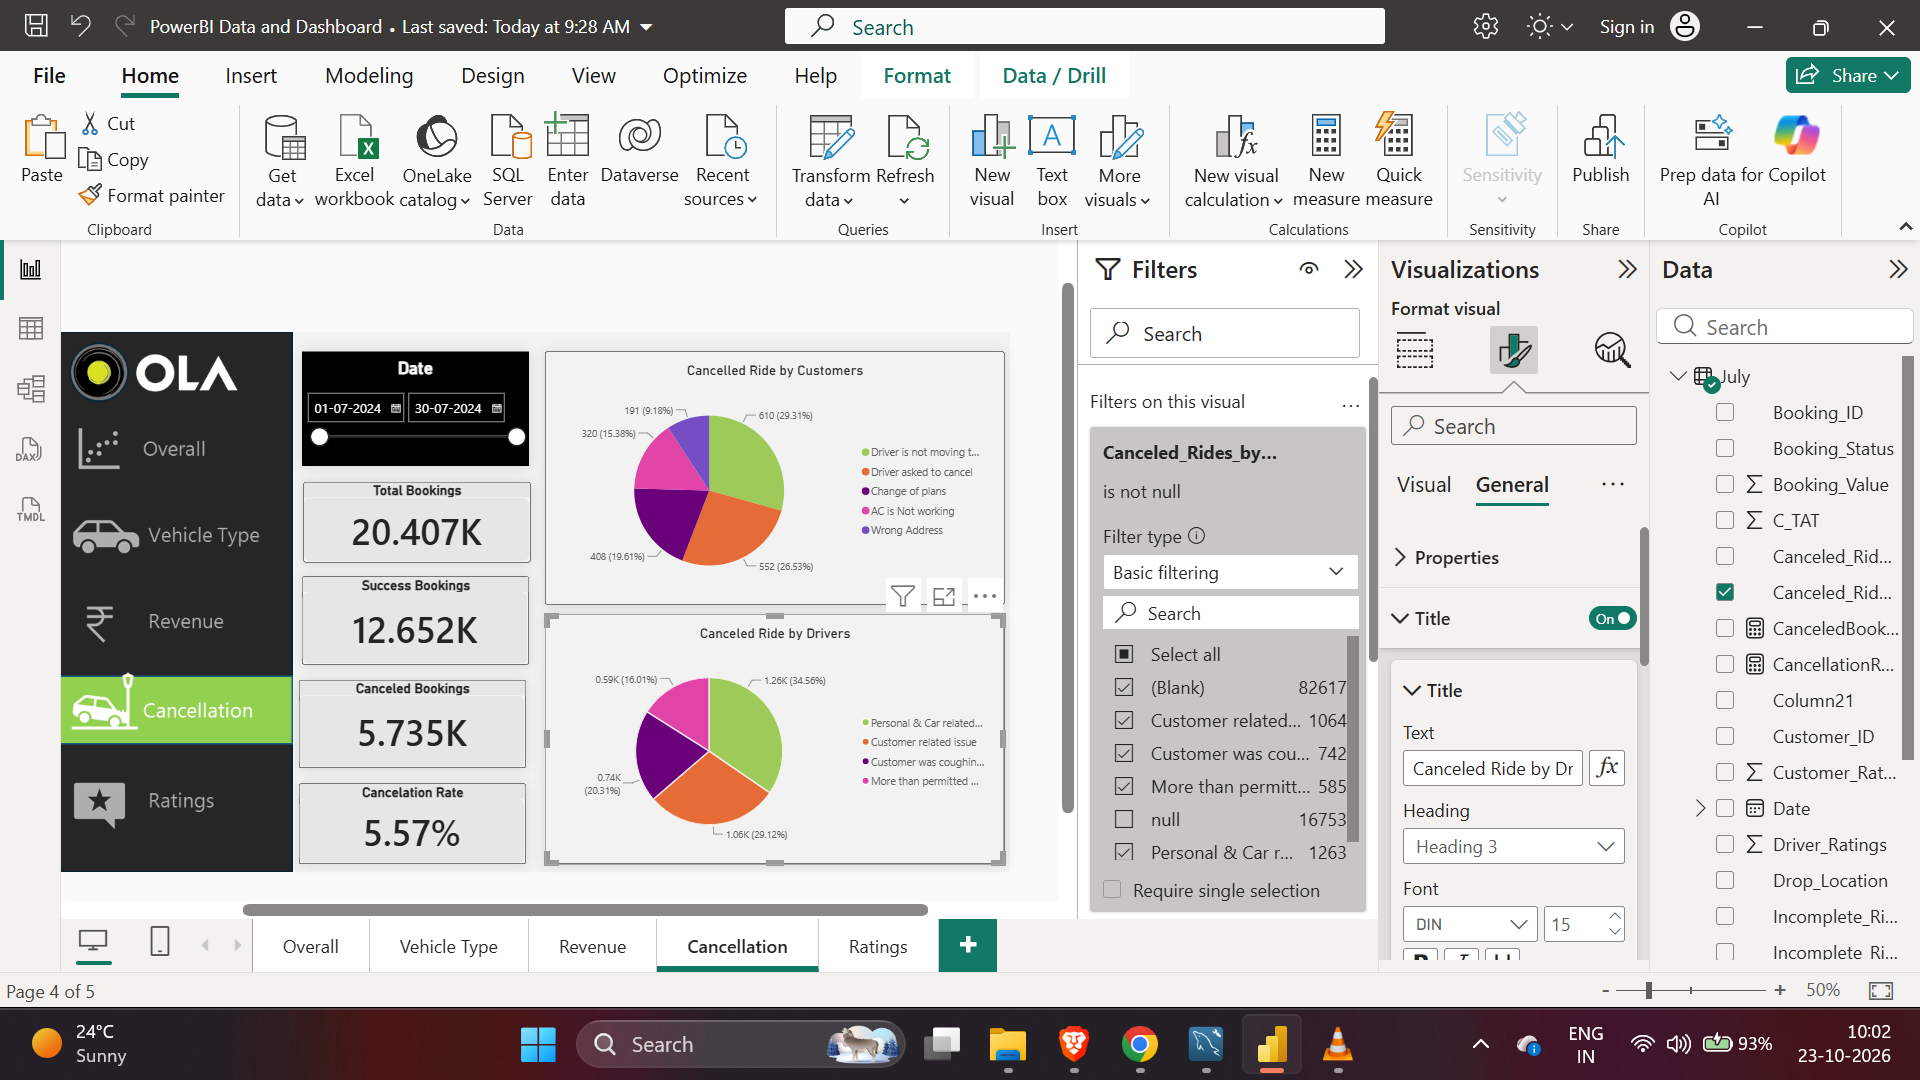

The page's visual inventory and layout, read from the dashboard file:
{"tool":"powerbi","page":{"name":"Cancellation","canvas":[1920,1080],"ordinal":3},"visuals":[{"type":"actionButton","box":[317.3,403.2,324.5,85.9],"z":0},{"type":"actionButton","box":[317.3,515.4,324.5,85.9],"z":1000},{"type":"actionButton","box":[317.3,620.3,324.5,97.8],"z":2000},{"type":"actionButton","box":[317.3,756.3,324.5,97.8],"z":3000},{"type":"actionButton","box":[317.3,291.1,324.5,85.9],"z":4000},{"type":"pieChart","title":"Canceled Ride by Drivers","fields":{"Category":["July.Canceled_Rides_by_Driver"],"Y":["CountNonNull(July.Canceled_Rides_by_Driver)"]},"box":[980,552.5,612.5,332.5],"z":4001},{"type":"pieChart","title":"Cancelled Ride by Customers","fields":{"Category":["July.Canceled_Rides_by_Customer"],"Y":["CountNonNull(July.Canceled_Rides_by_Customer)"]},"box":[980,202.5,612.5,337.5],"z":4002},{"type":"slicer","title":"Date","fields":{"Values":["July.Date"]},"box":[655,202.5,302.5,152.5],"z":4003},{"type":"cardVisual","title":"Total Bookings","fields":{"Data":["CountNonNull(July.Booking_ID)"]},"box":[657.5,375,302.5,107.5],"z":4004},{"type":"cardVisual","title":"Success Bookings","fields":{"Data":["CountNonNull(July.Booking_ID)"]},"box":[655,502.5,302.5,117.5],"z":4005},{"type":"cardVisual","title":"Canceled Bookings","fields":{"Data":["CountNonNull(July.Booking_ID)"]},"box":[652.5,640,302.5,117.5],"z":4006},{"type":"cardVisual","title":"Cancelation Rate","fields":{"Data":["July.CancellationRate"]},"box":[652.5,777.5,302.5,107.5],"z":4007}]}

Visuals, with their boxes on the page's 1920x1080 design canvas (x1, y1, x2, y2). These are canvas units, not pixel positions in the 1920x1080 screenshot, which may show the page scaled, cropped or inside an application window:
actionButton: (317, 403, 642, 489)
actionButton: (317, 515, 642, 601)
actionButton: (317, 620, 642, 718)
actionButton: (317, 756, 642, 854)
actionButton: (317, 291, 642, 377)
"Canceled Ride by Drivers" pieChart: (980, 552, 1592, 885)
"Cancelled Ride by Customers" pieChart: (980, 202, 1592, 540)
"Date" slicer: (655, 202, 958, 355)
"Total Bookings" cardVisual: (658, 375, 960, 482)
"Success Bookings" cardVisual: (655, 502, 958, 620)
"Canceled Bookings" cardVisual: (652, 640, 955, 758)
"Cancelation Rate" cardVisual: (652, 778, 955, 885)
